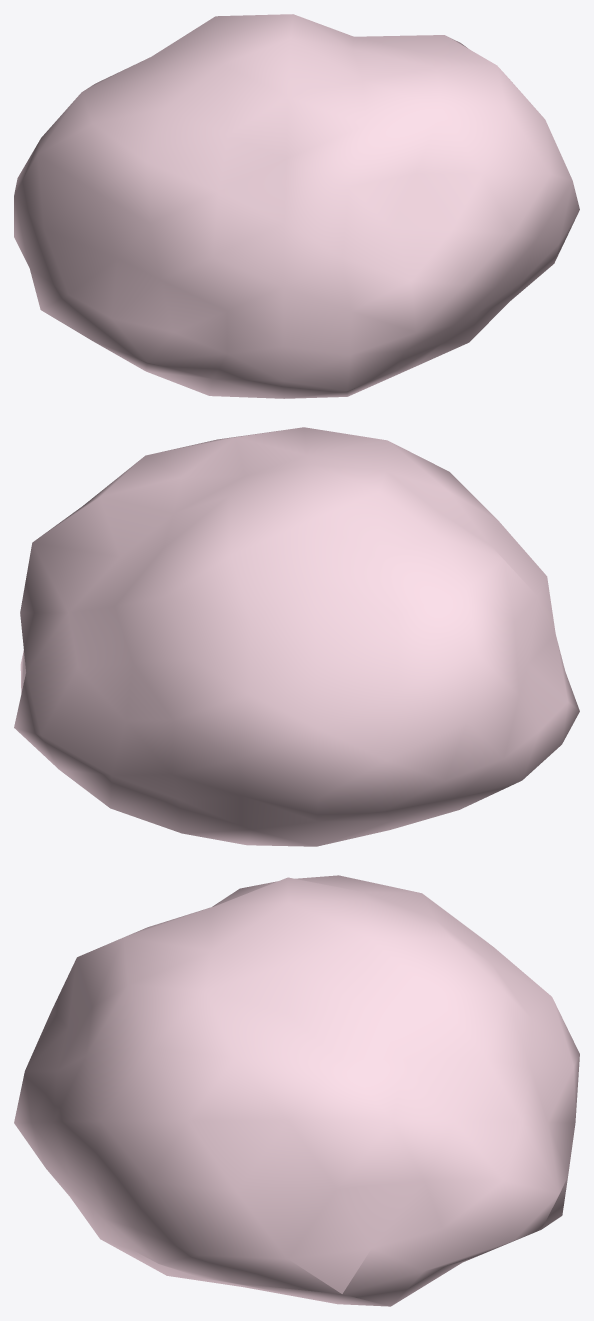
Rendered from tree-blossom-a-crown.glb.
3 renders of one model, top to bottom at view 1: azimuth 30°, elevation 25°; view 2: azimuth 150°, elevation 25°; view 3: azimuth 270°, elevation 25°, orthographic. The views are drawn at different scales.
Parts seen in each view (by area): view 1: tree-blossom-a-crown; view 2: tree-blossom-a-crown; view 3: tree-blossom-a-crown.
Part boxes in pixels (x1,y1,x2,y2): tree-blossom-a-crown: [14, 14, 579, 398]; tree-blossom-a-crown: [14, 427, 579, 846]; tree-blossom-a-crown: [14, 875, 579, 1306].
Size of the model in its own units: 0.9877 by 0.5999 by 0.9193.
